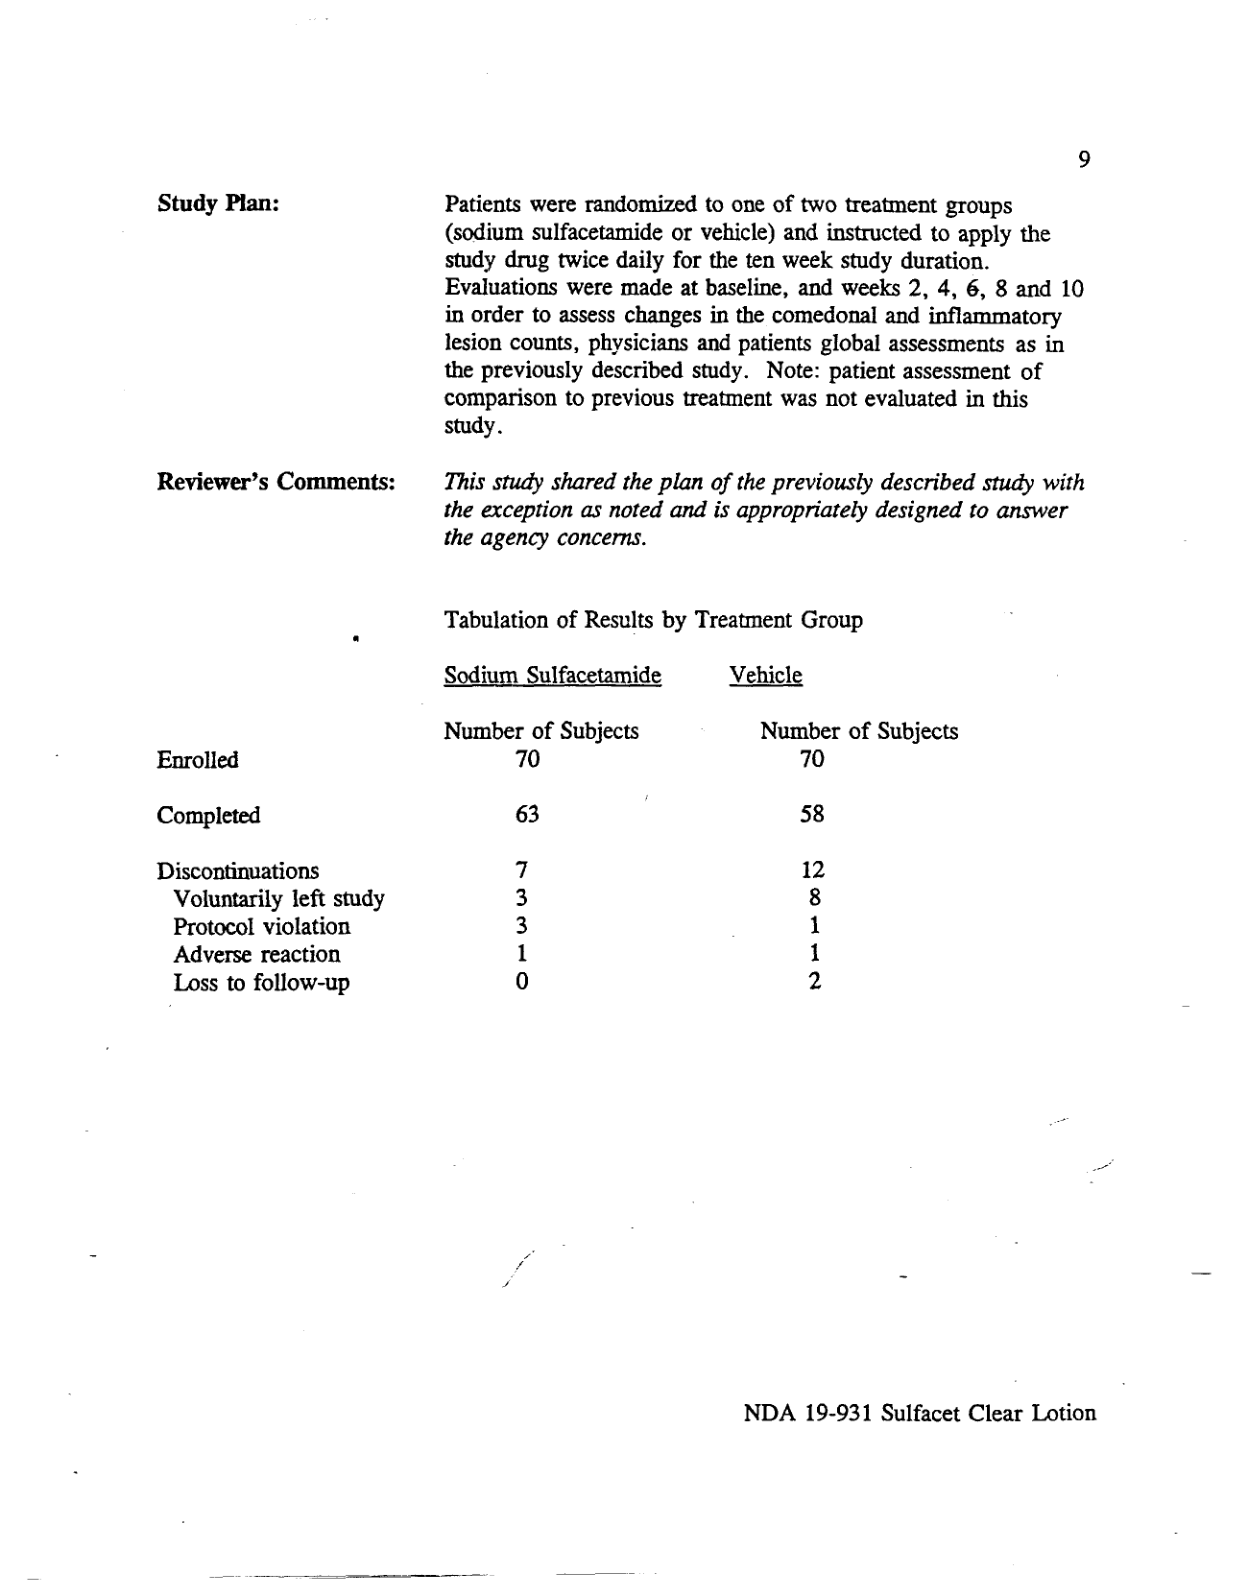nolines: (157, 187, 1088, 556), (154, 716, 968, 997)
